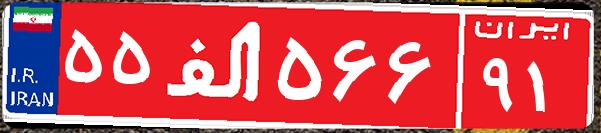1: (525, 38, 570, 115)
5: (273, 28, 330, 110), (57, 26, 110, 107), (110, 28, 158, 105)
6: (385, 28, 445, 110), (330, 28, 385, 110)
9: (475, 38, 525, 113)
الف: (158, 15, 273, 115)
